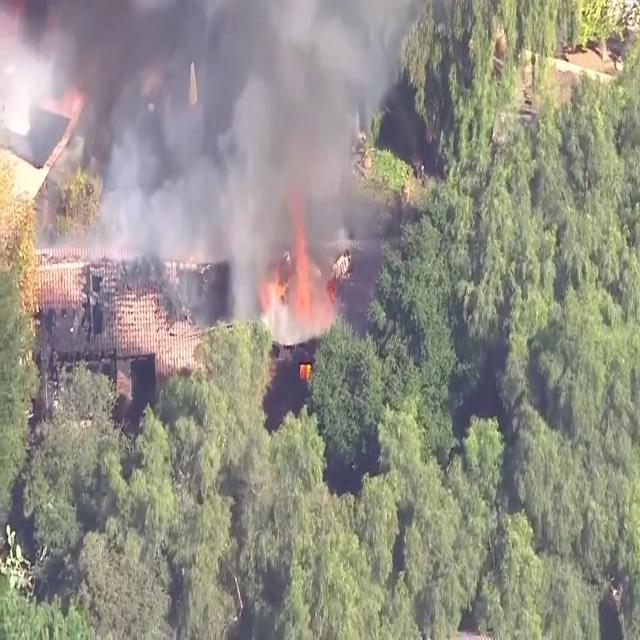Smoke: (1, 0, 391, 330)
